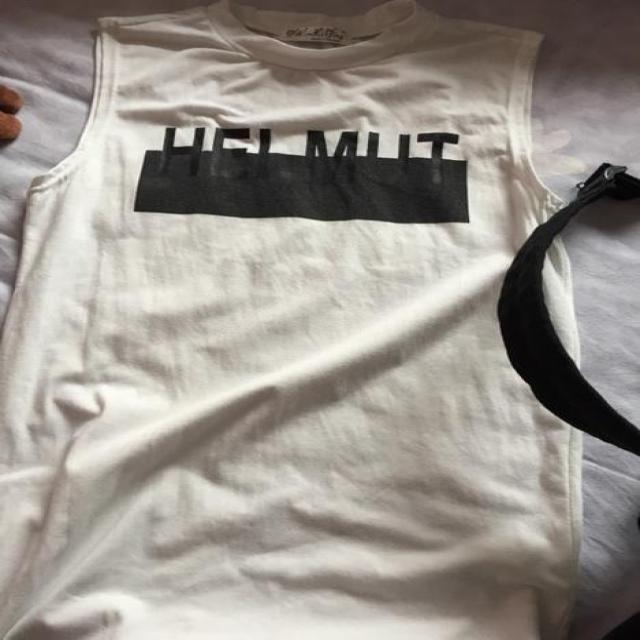vest dress: (1, 1, 580, 638)
